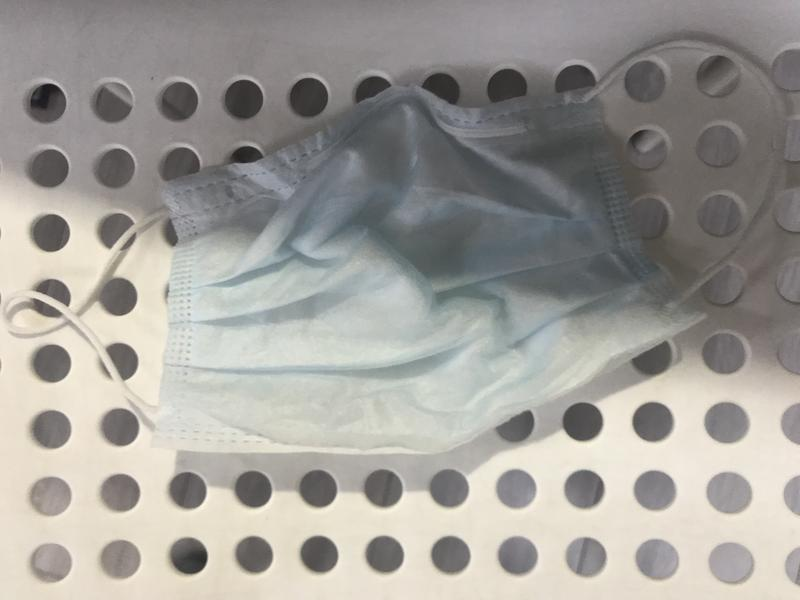medical_mask: (3, 41, 788, 445)
